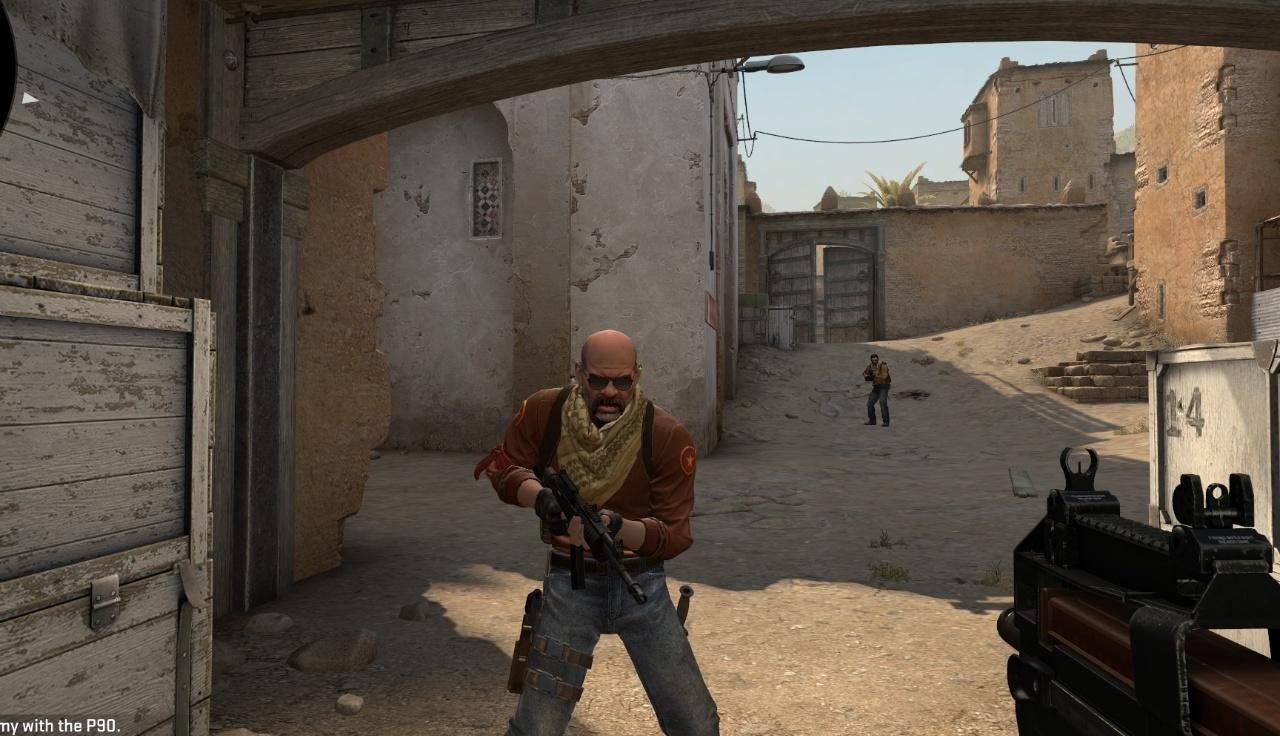rifle: (999, 446, 1280, 736)
tt: (487, 328, 721, 736), (863, 354, 890, 426)
tthead: (576, 330, 640, 419), (871, 354, 878, 365)
